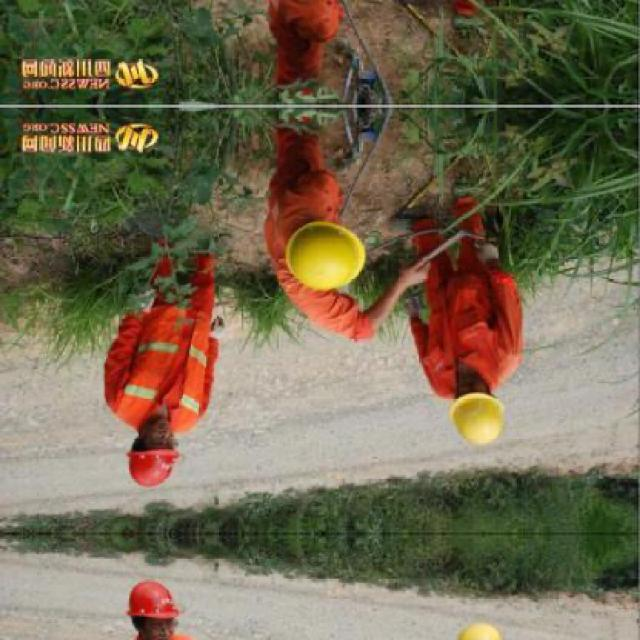con casco: (277, 212, 399, 301), (87, 416, 201, 497), (432, 381, 509, 453)
